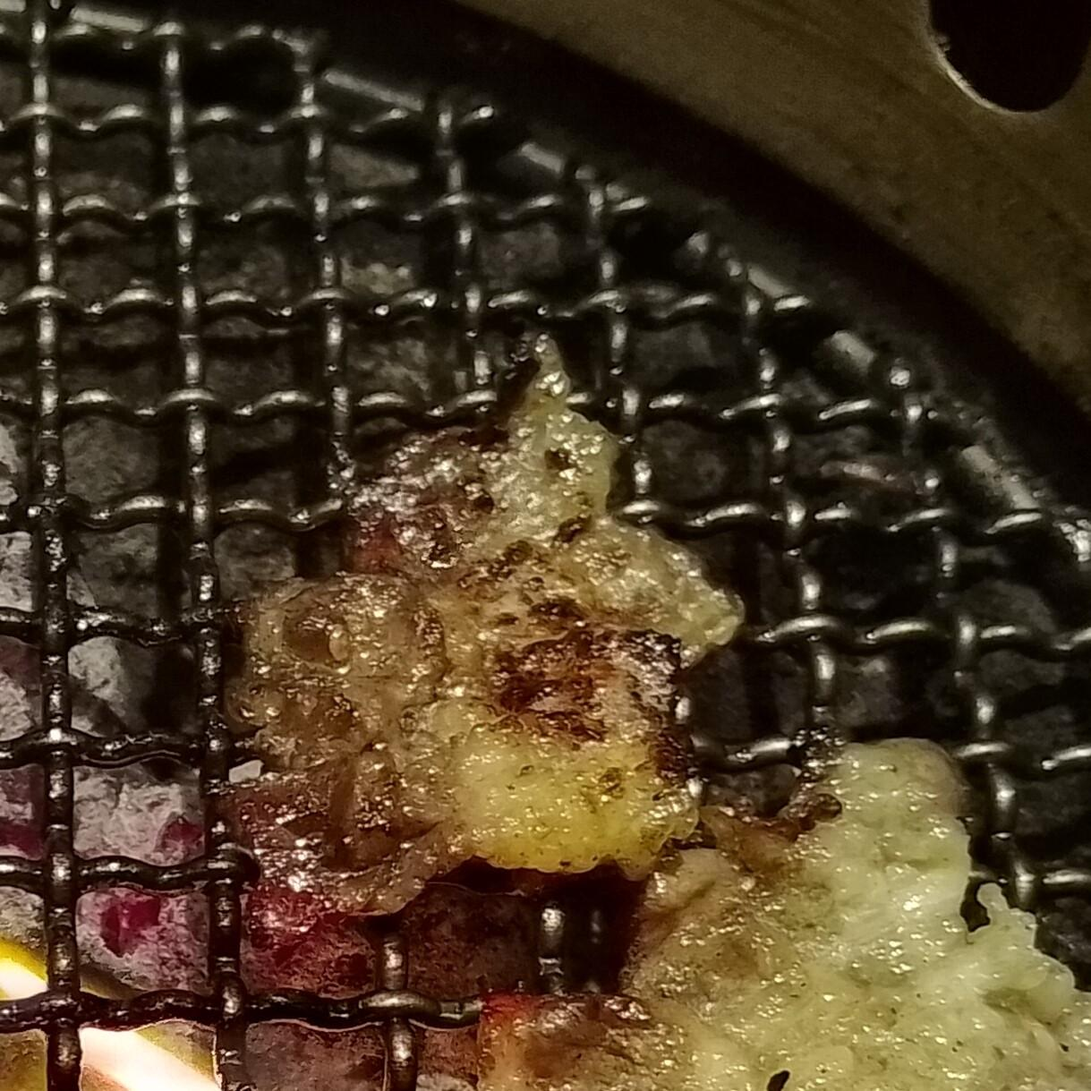Overcooked: (225, 378, 733, 921), (472, 739, 1090, 1090)
